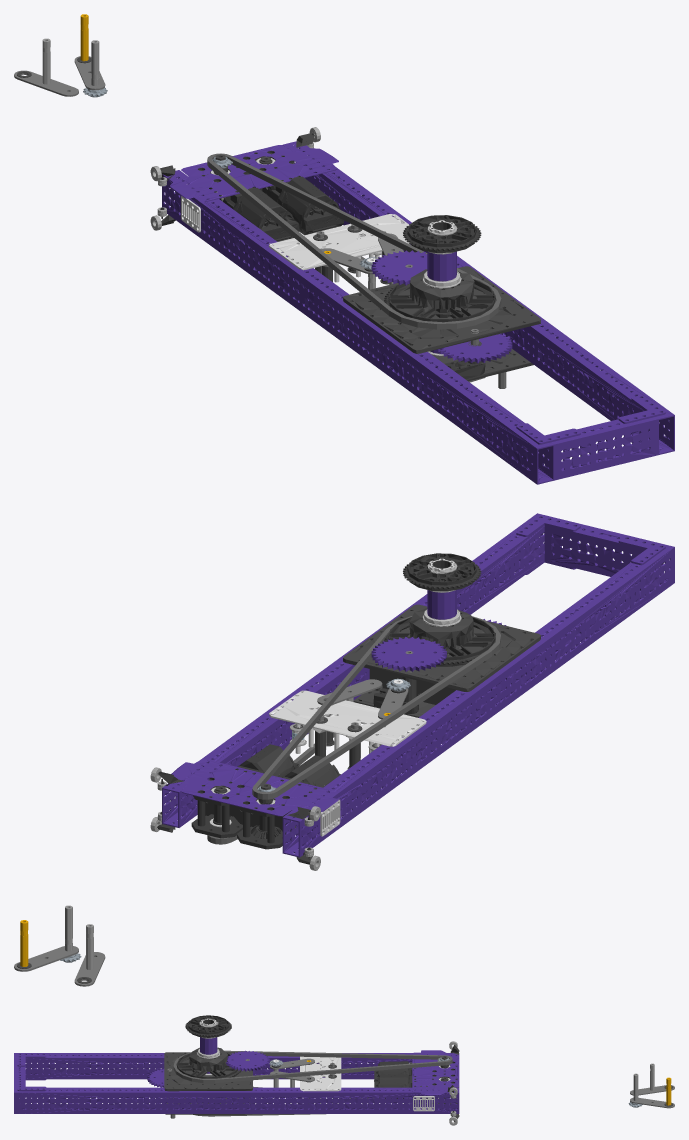
The picture shows the model from 3 angles, top to bottom: view 1: azimuth 30°, elevation 25°; view 2: azimuth 150°, elevation 25°; view 3: azimuth 270°, elevation 25°; orthographic projection. The views are drawn at different scales.
Parts seen in each view (by area): view 1: g0_c6, g0_c7, g0_c4, g0_c11, g0_c8, g0_c1, g0_c17; view 2: g0_c6, g0_c7, g0_c4, g0_c8, g0_c11, g0_c1, g0_c17, g0_c3, g0_c13; view 3: g0_c6, g0_c11, g0_c7, g0_c4, g0_c8, g0_c1, g0_c17, g0_c13.
Part boxes in pixels (bbox=[...]): g0_c6: bbox=[162, 141, 674, 484]; g0_c7: bbox=[160, 132, 496, 378]; g0_c4: bbox=[213, 154, 540, 381]; g0_c11: bbox=[207, 153, 501, 382]; g0_c8: bbox=[181, 196, 453, 282]; g0_c1: bbox=[14, 56, 506, 388]; g0_c17: bbox=[42, 38, 393, 289]; g0_c6: bbox=[162, 513, 674, 857]; g0_c7: bbox=[157, 553, 495, 864]; g0_c4: bbox=[215, 604, 540, 803]; g0_c8: bbox=[269, 559, 453, 836]; g0_c11: bbox=[207, 616, 500, 844]; g0_c1: bbox=[14, 651, 413, 986]; g0_c17: bbox=[65, 697, 377, 969]; g0_c3: bbox=[17, 677, 416, 983]; g0_c13: bbox=[150, 767, 320, 870]; g0_c6: bbox=[14, 1037, 459, 1113]; g0_c11: bbox=[173, 1050, 452, 1116]; g0_c7: bbox=[176, 1015, 459, 1121]; g0_c4: bbox=[164, 1047, 448, 1114]; g0_c8: bbox=[202, 1019, 434, 1111]; g0_c1: bbox=[167, 1058, 674, 1118]; g0_c17: bbox=[273, 1063, 654, 1103]; g0_c13: bbox=[449, 1041, 457, 1125].
Bounding box in the file's own units: 0.2406 × 0.2067 × 1.42.
